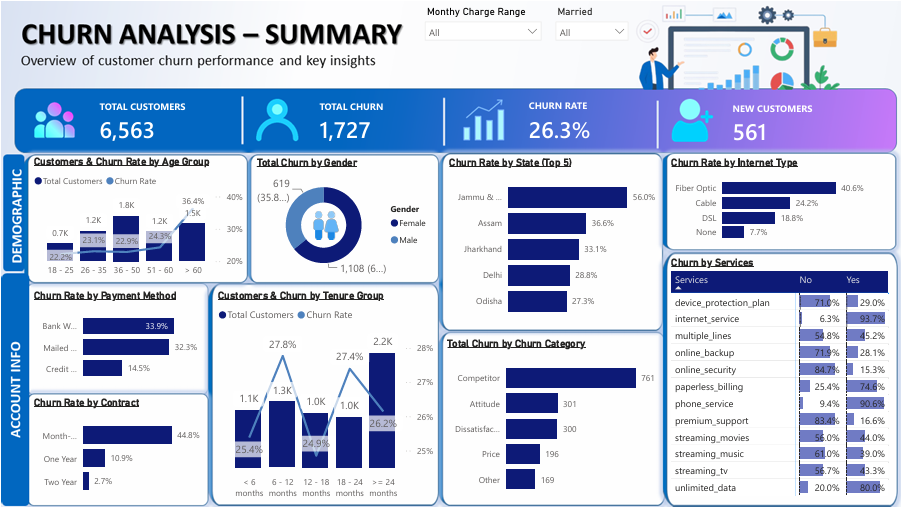

The dashboard page shown, as its layout file describes it:
{"tool":"powerbi","page":{"name":"Summary","canvas":[1280,720],"ordinal":0},"visuals":[{"type":"cardVisual","title":"SFD","fields":{"Data":["tbl_measures.Total Customers"]},"box":[109.8,123.7,207.1,93.1],"z":0},{"type":"cardVisual","title":"SFD","fields":{"Data":["tbl_measures.Total Churn"]},"box":[422.5,123.7,207.1,93.1],"z":1000},{"type":"cardVisual","fields":{"Data":["tbl_measures.New Joiners"]},"box":[1010.5,126.5,218.2,93.1],"z":2000},{"type":"cardVisual","fields":{"Data":["tbl_measures.Churn Rate"]},"box":[720.8,124.4,201.7,91.5],"z":3000},{"type":"donutChart","title":"Total Churn by Gender","fields":{"Y":["tbl_measures.Total Churn"],"Category":["prod_churn.gender"]},"box":[357.5,220.2,261.7,178.8],"z":4000},{"type":"lineStackedColumnComboChart","title":"Customers & Churn Rate by Age Group","fields":{"Category":["Age_Group.Age_Group"],"Y":["tbl_measures.Total Customers"],"Y2":["tbl_measures.Churn Rate"]},"box":[41.5,218.8,306.1,180.2],"z":5000},{"type":"clusteredBarChart","title":"Churn Rate by Payment Method","fields":{"Category":["prod_churn.payment_method"],"Y":["tbl_measures.Churn Rate"]},"box":[41.5,409,247.4,141.6],"z":6000},{"type":"clusteredBarChart","title":"Churn Rate by Contract","fields":{"Category":["prod_churn.contract"],"Y":["tbl_measures.Churn Rate"]},"box":[41.5,562.1,247.4,151.6],"z":7000},{"type":"lineStackedColumnComboChart","title":"Customers & Churn by Tenure Group","fields":{"Category":["Tenure.Tenure_Group"],"Y":["tbl_measures.Total Customers"],"Y2":["tbl_measures.Churn Rate"]},"box":[303.2,409,316.1,304.6],"z":8000},{"type":"clusteredBarChart","title":"Churn Rate by State (Top 5)","fields":{"Category":["prod_churn.state"],"Y":["tbl_measures.Churn Rate"]},"box":[632.1,220.2,303.2,240.3],"z":9000},{"type":"clusteredBarChart","title":"Total Churn by Churn Category","fields":{"Y":["tbl_measures.Total Churn"],"Category":["prod_churn.churn_category"]},"box":[629.3,477.7,306.1,236],"z":10000},{"type":"clusteredBarChart","title":"Churn Rate by Internet Type","fields":{"Category":["prod_churn.internet_type"],"Y":["tbl_measures.Churn Rate"]},"box":[948.2,220.2,320.4,130.1],"z":11000},{"type":"pivotTable","title":"Churn by Services","fields":{"Rows":["Services.Services"],"Columns":["Services.Status"],"Values":["Sum(Services.Churn_Status)"]},"box":[948.2,361.8,320.4,351.8],"z":12000},{"type":"slicer","fields":{"Values":["prod_churn.Monthy_Charge_Status"]},"box":[592.1,0,185.9,60.1],"z":13000},{"type":"slicer","fields":{"Values":["prod_churn.married"]},"box":[778,0,124.4,60.1],"z":14000},{"type":"image","box":[441.5,292.3,39.2,50],"z":15000}]}

Visuals, with their boxes in screenshot pixels (x1, y1, x2, y2), scaled from the page's 1280x720 canvas onto the 901x510 screenshot:
"SFD" cardVisual: <region>77, 88, 223, 154</region>
"SFD" cardVisual: <region>297, 88, 443, 154</region>
cardVisual - tbl_measures.New Joiners: <region>711, 90, 865, 156</region>
cardVisual - tbl_measures.Churn Rate: <region>507, 88, 649, 153</region>
"Total Churn by Gender" donutChart: <region>252, 156, 436, 283</region>
"Customers & Churn Rate by Age Group" lineStackedColumnComboChart: <region>29, 155, 245, 283</region>
"Churn Rate by Payment Method" clusteredBarChart: <region>29, 290, 203, 390</region>
"Churn Rate by Contract" clusteredBarChart: <region>29, 398, 203, 506</region>
"Customers & Churn by Tenure Group" lineStackedColumnComboChart: <region>213, 290, 436, 505</region>
"Churn Rate by State (Top 5)" clusteredBarChart: <region>445, 156, 658, 326</region>
"Total Churn by Churn Category" clusteredBarChart: <region>443, 338, 658, 506</region>
"Churn Rate by Internet Type" clusteredBarChart: <region>667, 156, 893, 248</region>
"Churn by Services" pivotTable: <region>667, 256, 893, 505</region>
slicer - prod_churn.Monthy_Charge_Status: <region>417, 0, 548, 43</region>
slicer - prod_churn.married: <region>548, 0, 635, 43</region>
image: <region>311, 207, 338, 242</region>
